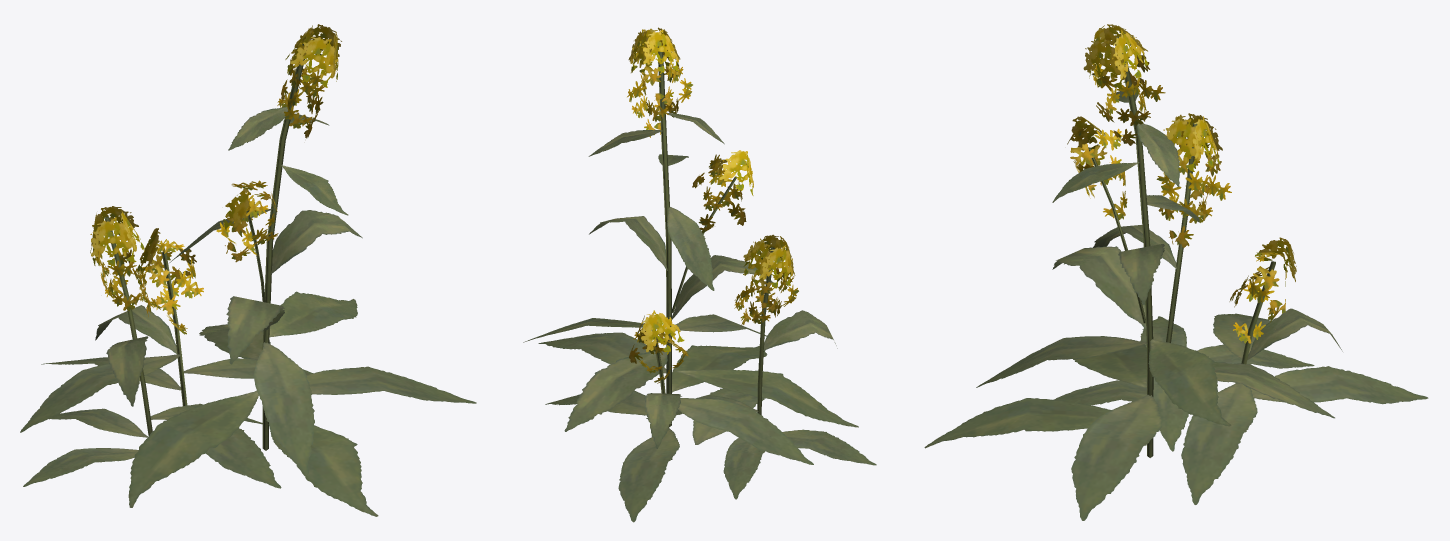
File: Flower2.fbx
3 renders of one model, left to right at view 1: azimuth 30°, elevation 25°; view 2: azimuth 150°, elevation 25°; view 3: azimuth 270°, elevation 25°, orthographic. The views are drawn at different scales.
Visible parts, largest first — view 1: SM_cmn_mount_Flower_02a; view 2: SM_cmn_mount_Flower_02a; view 3: SM_cmn_mount_Flower_02a.
Part boxes in pixels (x1,y1,x2,y2): SM_cmn_mount_Flower_02a: (20,24,476,516); SM_cmn_mount_Flower_02a: (523,27,876,522); SM_cmn_mount_Flower_02a: (924,24,1428,520).
Size of the model in its own units: 64.69 by 63.4 by 65.47.
